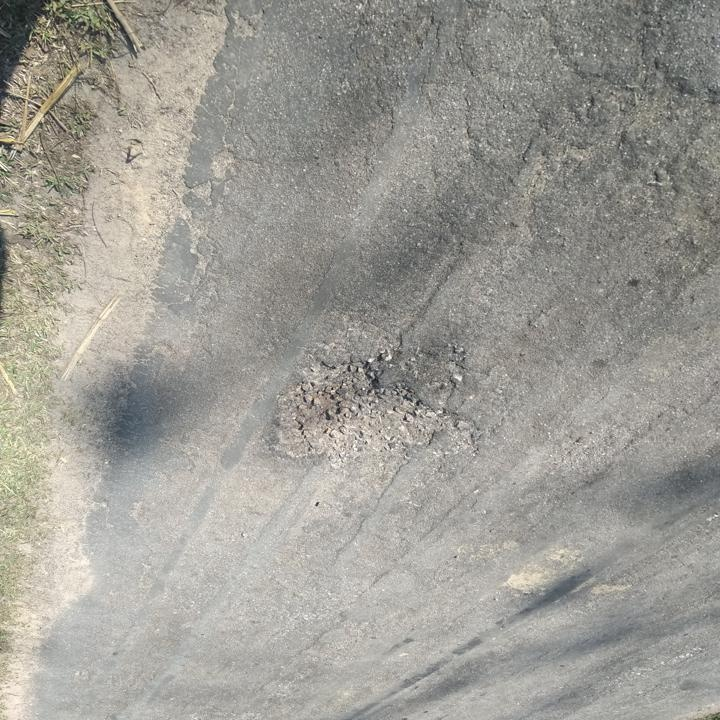pothole: (261, 354, 477, 469)
